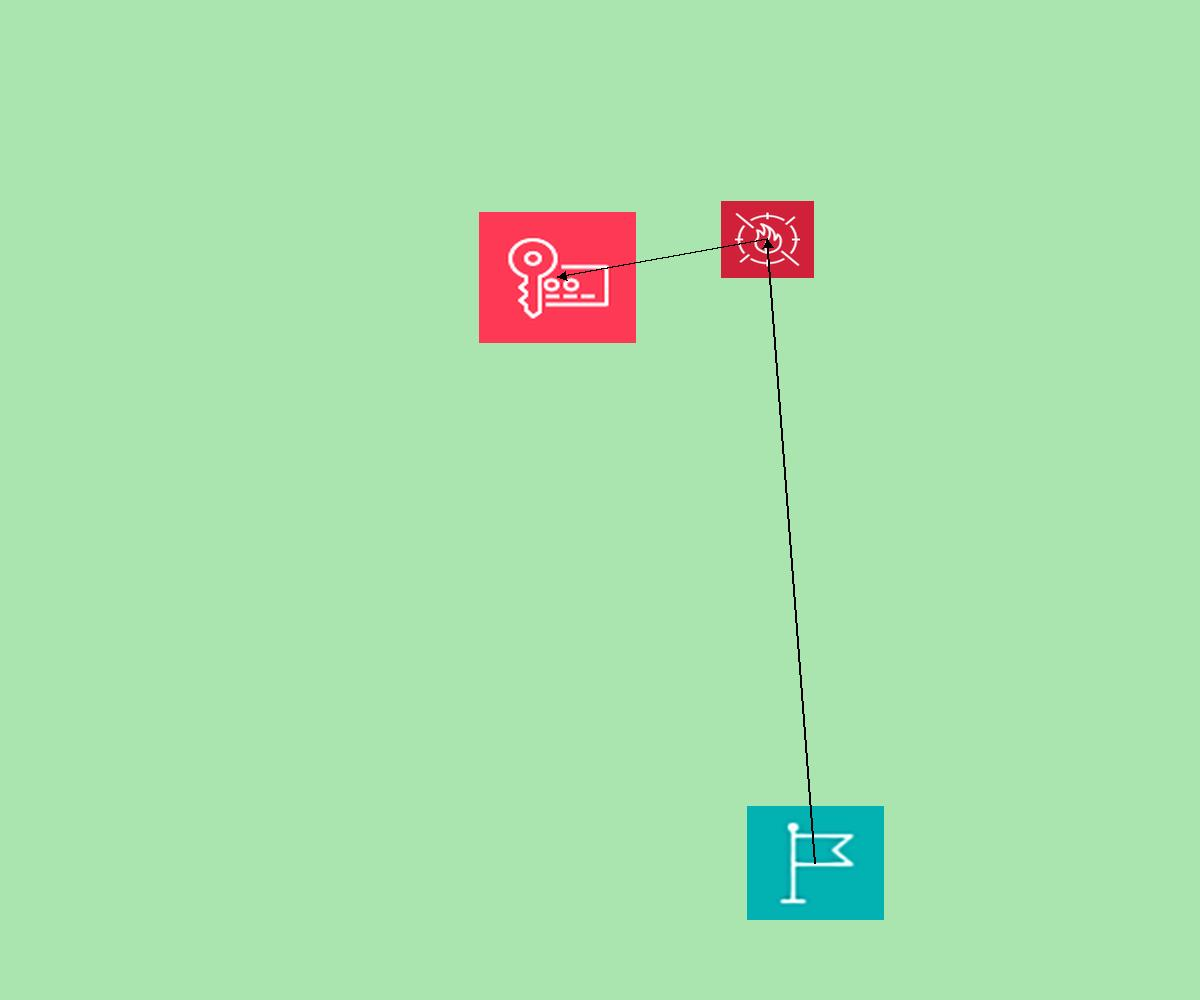AWS-Key-Management-Service: (479, 212, 636, 343)
AWS-Region: (747, 806, 884, 920)
AWS-WAF: (721, 201, 814, 278)
